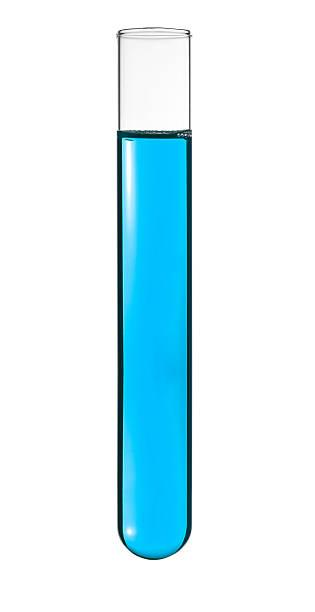Test tube: (107, 18, 192, 564)
